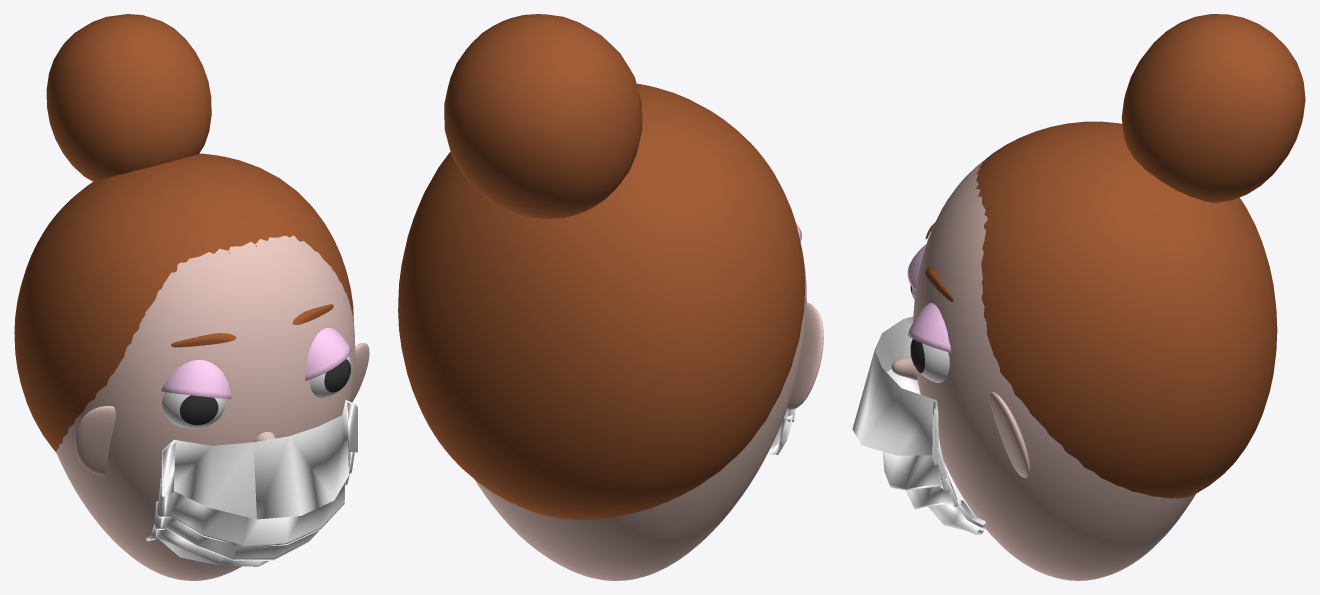
File: FighAttendant_Head.fbx
The picture shows the model from 3 angles, left to right: view 1: azimuth 30°, elevation 25°; view 2: azimuth 150°, elevation 25°; view 3: azimuth 270°, elevation 25°; orthographic projection. The views are drawn at different scales.
Parts seen in each view (by area): view 1: Cube.014, Cube.008, Plane.001, Cube.017, Sphere, Sphere.002, Cube.009, Cube.026; view 2: Cube.008, Cube.017, Cube.014, Cube.009; view 3: Cube.008, Cube.014, Cube.017, Plane.001, Sphere, Cube.009, Sphere.002.
Boxes of the visible parts, x1,y1,x2,y2 form: Cube.014: (56, 235, 355, 580); Cube.008: (14, 153, 353, 452); Plane.001: (146, 400, 357, 566); Cube.017: (46, 14, 211, 181); Sphere: (161, 328, 351, 398); Sphere.002: (162, 356, 351, 428); Cube.009: (75, 343, 369, 475); Cube.026: (171, 304, 333, 347); Cube.008: (398, 83, 804, 519); Cube.017: (444, 14, 642, 219); Cube.014: (475, 251, 806, 580); Cube.009: (786, 302, 823, 409); Cube.008: (973, 121, 1277, 498); Cube.014: (913, 159, 1195, 580); Cube.017: (1121, 14, 1305, 202); Plane.001: (852, 316, 985, 534); Sphere: (907, 244, 951, 352); Cube.009: (990, 392, 1029, 477); Sphere.002: (910, 285, 949, 382).
Bounding box in the file's own units: 123 × 204 × 153.
